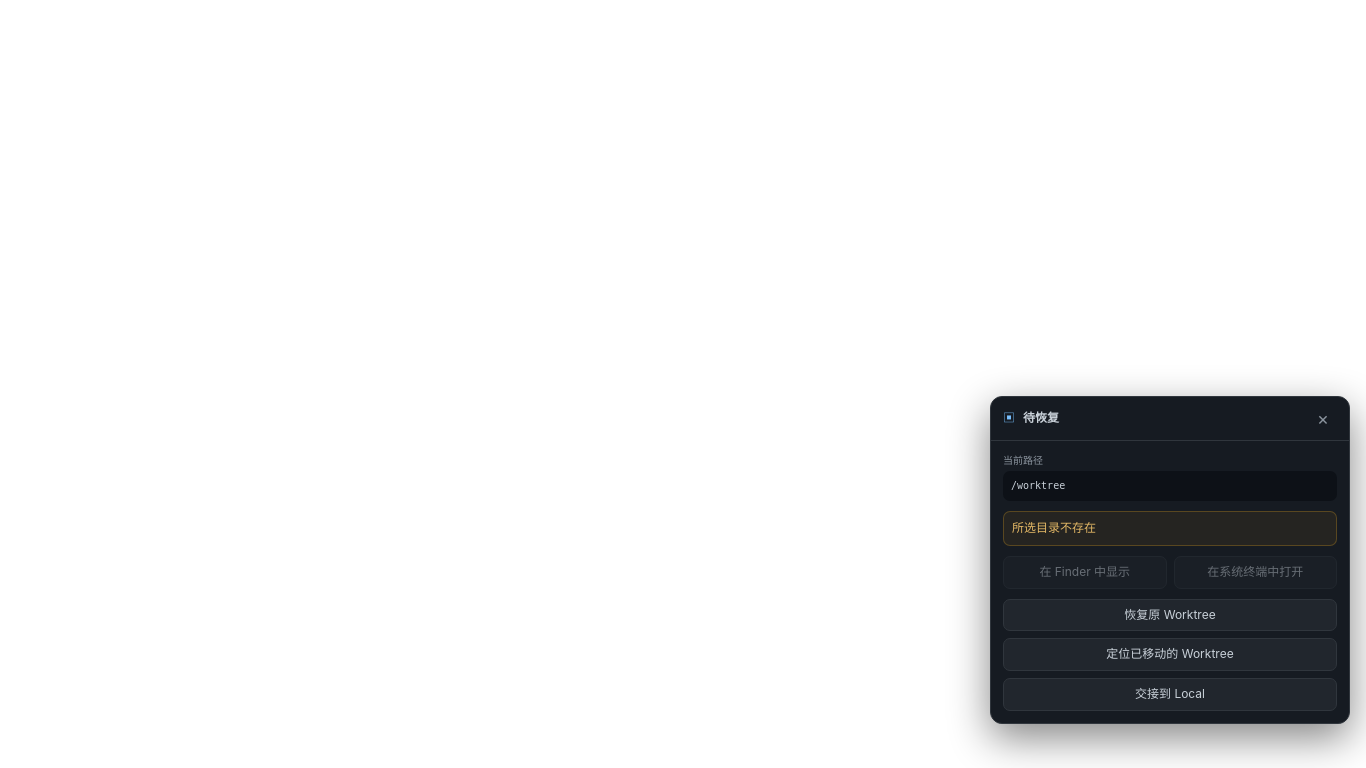
EnvironmentControlMenu › keeps a missing Worktree actionable and translates an identity mismatch for the user
Step 1. Click the button "恢复原 Worktree" → x=1170, y=615, box [1003,599,1337,631]
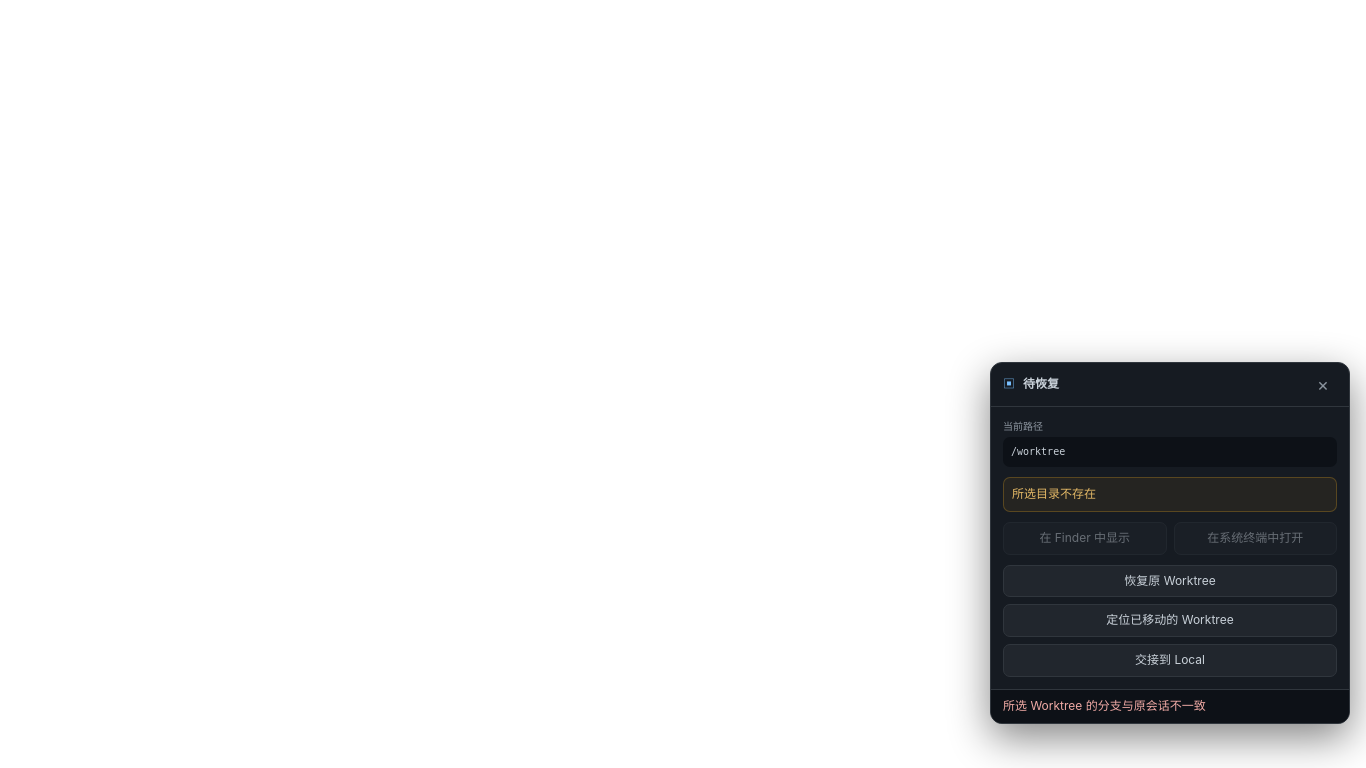
Expected: the button "交接到 Local" is shown, [1003,644,1337,677]
Result: the text "所选 Worktree 的分支与原会话不一致" is shown at [991,689,1349,723]
